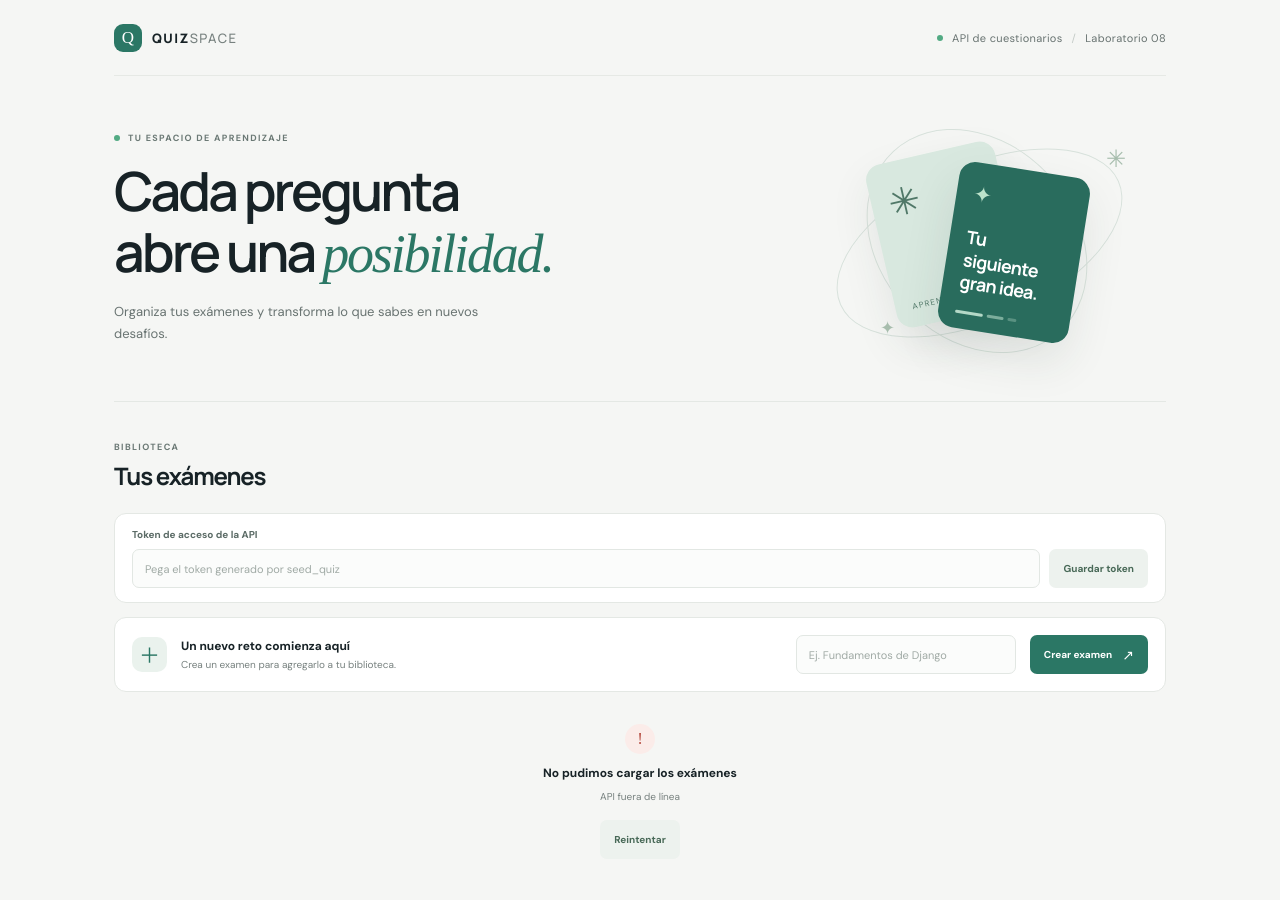
Test: ExamManager › shows a request error and offers retry
Expected: the text "API fuera de línea" is shown, [600,789,680,805]
Click the button "Reintentar" at coordinates (640, 840), box [600,820,680,859]
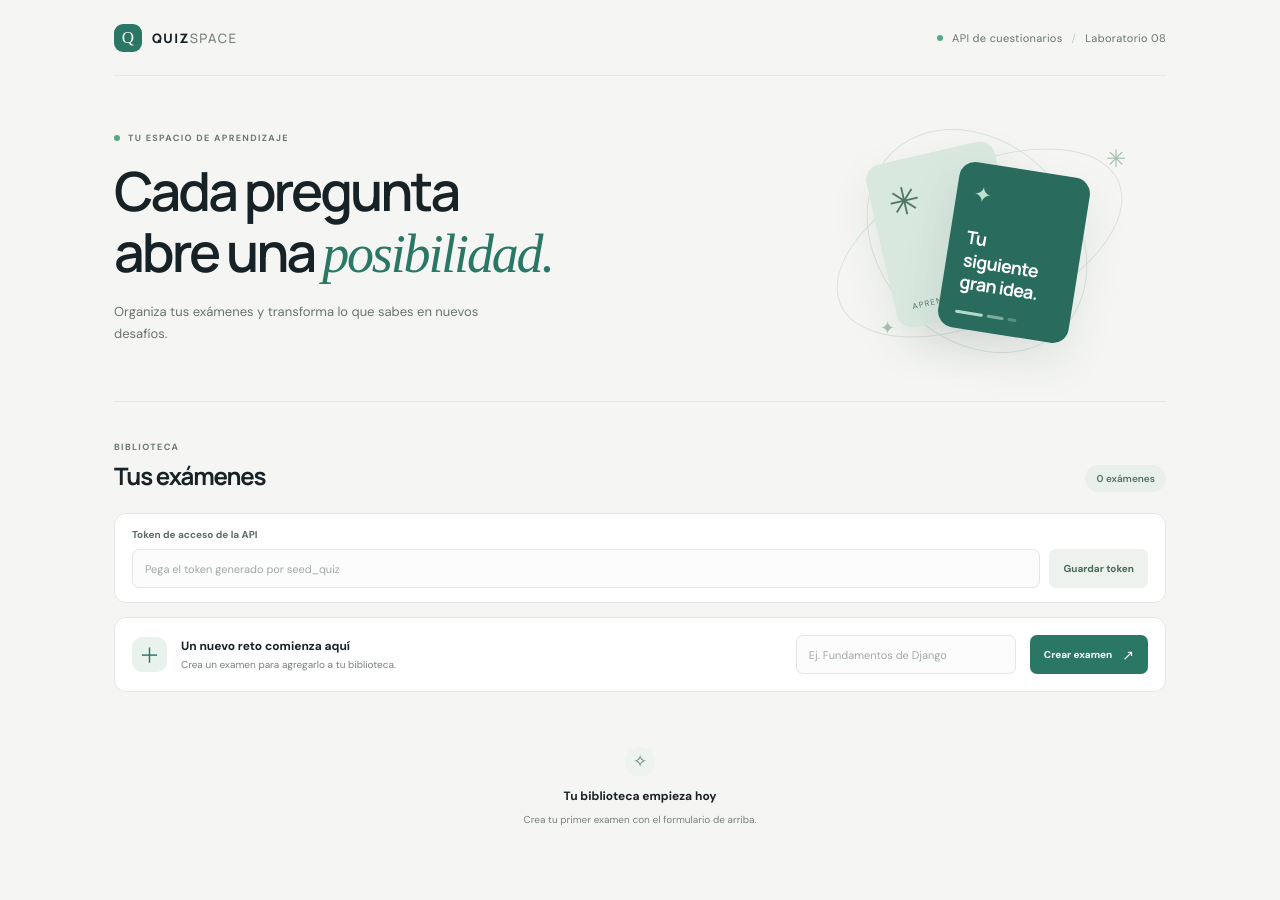
Result: the text "Tu biblioteca empieza hoy" is shown at [564,788,716,804]
